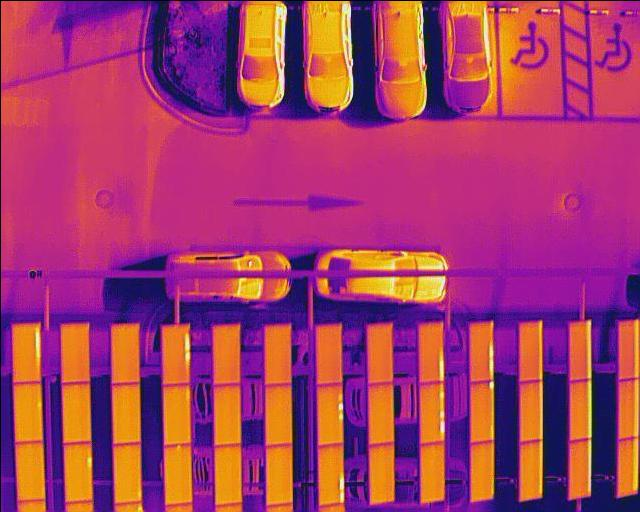Cell: (64, 441, 93, 501), (470, 382, 493, 442)
Cell-Multi: (316, 382, 343, 445), (418, 381, 444, 442)
No-Anomaly: (161, 383, 192, 444), (264, 383, 293, 446), (110, 380, 139, 443), (112, 441, 141, 503), (61, 381, 90, 442), (13, 380, 42, 441), (15, 440, 44, 500), (213, 384, 241, 446), (110, 325, 139, 384), (60, 323, 89, 381), (164, 443, 192, 503), (265, 444, 292, 506), (264, 323, 291, 384), (215, 444, 242, 505), (213, 324, 240, 384), (366, 324, 392, 385), (316, 323, 342, 384), (369, 441, 394, 502), (368, 382, 392, 445), (420, 441, 444, 502), (518, 379, 541, 441), (469, 441, 493, 500), (519, 440, 542, 498), (617, 377, 638, 440), (616, 436, 638, 496), (518, 322, 541, 379), (569, 319, 591, 378), (569, 437, 591, 496), (570, 378, 591, 439), (619, 319, 639, 380)
Unclassified: (161, 324, 190, 385), (12, 322, 40, 384), (318, 444, 344, 504), (418, 322, 443, 384), (469, 322, 492, 381)
